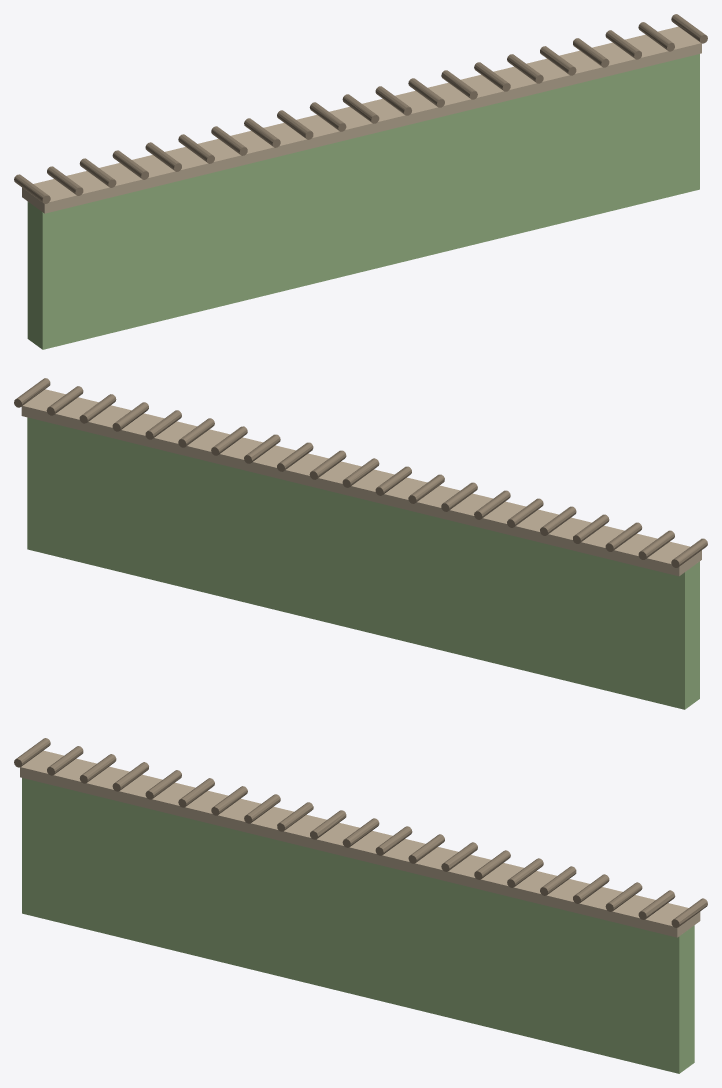
Rendered from r-140-timber-beschoeiing-bank.glb.
3 renders of one model, top to bottom at view 1: azimuth 30°, elevation 25°; view 2: azimuth 150°, elevation 25°; view 3: azimuth 330°, elevation 25°, orthographic.
Parts seen in each view (by area): view 1: verge, planking, piles; view 2: verge, planking, piles; view 3: verge, planking, piles.
Part boxes in pixels (bbox=[...]): verge: bbox=[27, 54, 699, 349]; planking: bbox=[22, 26, 701, 213]; piles: bbox=[14, 14, 707, 203]; verge: bbox=[27, 417, 699, 709]; planking: bbox=[21, 389, 701, 576]; piles: bbox=[14, 378, 707, 567]; verge: bbox=[22, 778, 694, 1073]; planking: bbox=[20, 750, 700, 937]; piles: bbox=[14, 738, 707, 927].
Bounding box in the file's own units: 20250 × 4573 × 1501.
